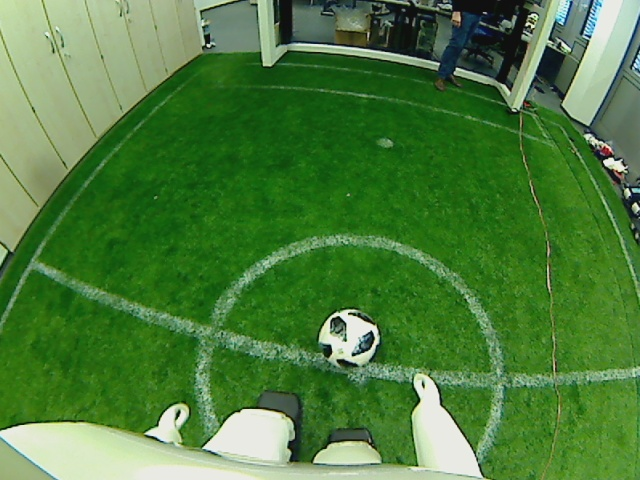ball: (315, 306, 383, 372)
